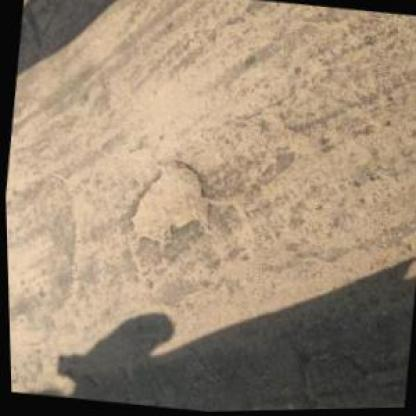pothole: (122, 151, 216, 254)
